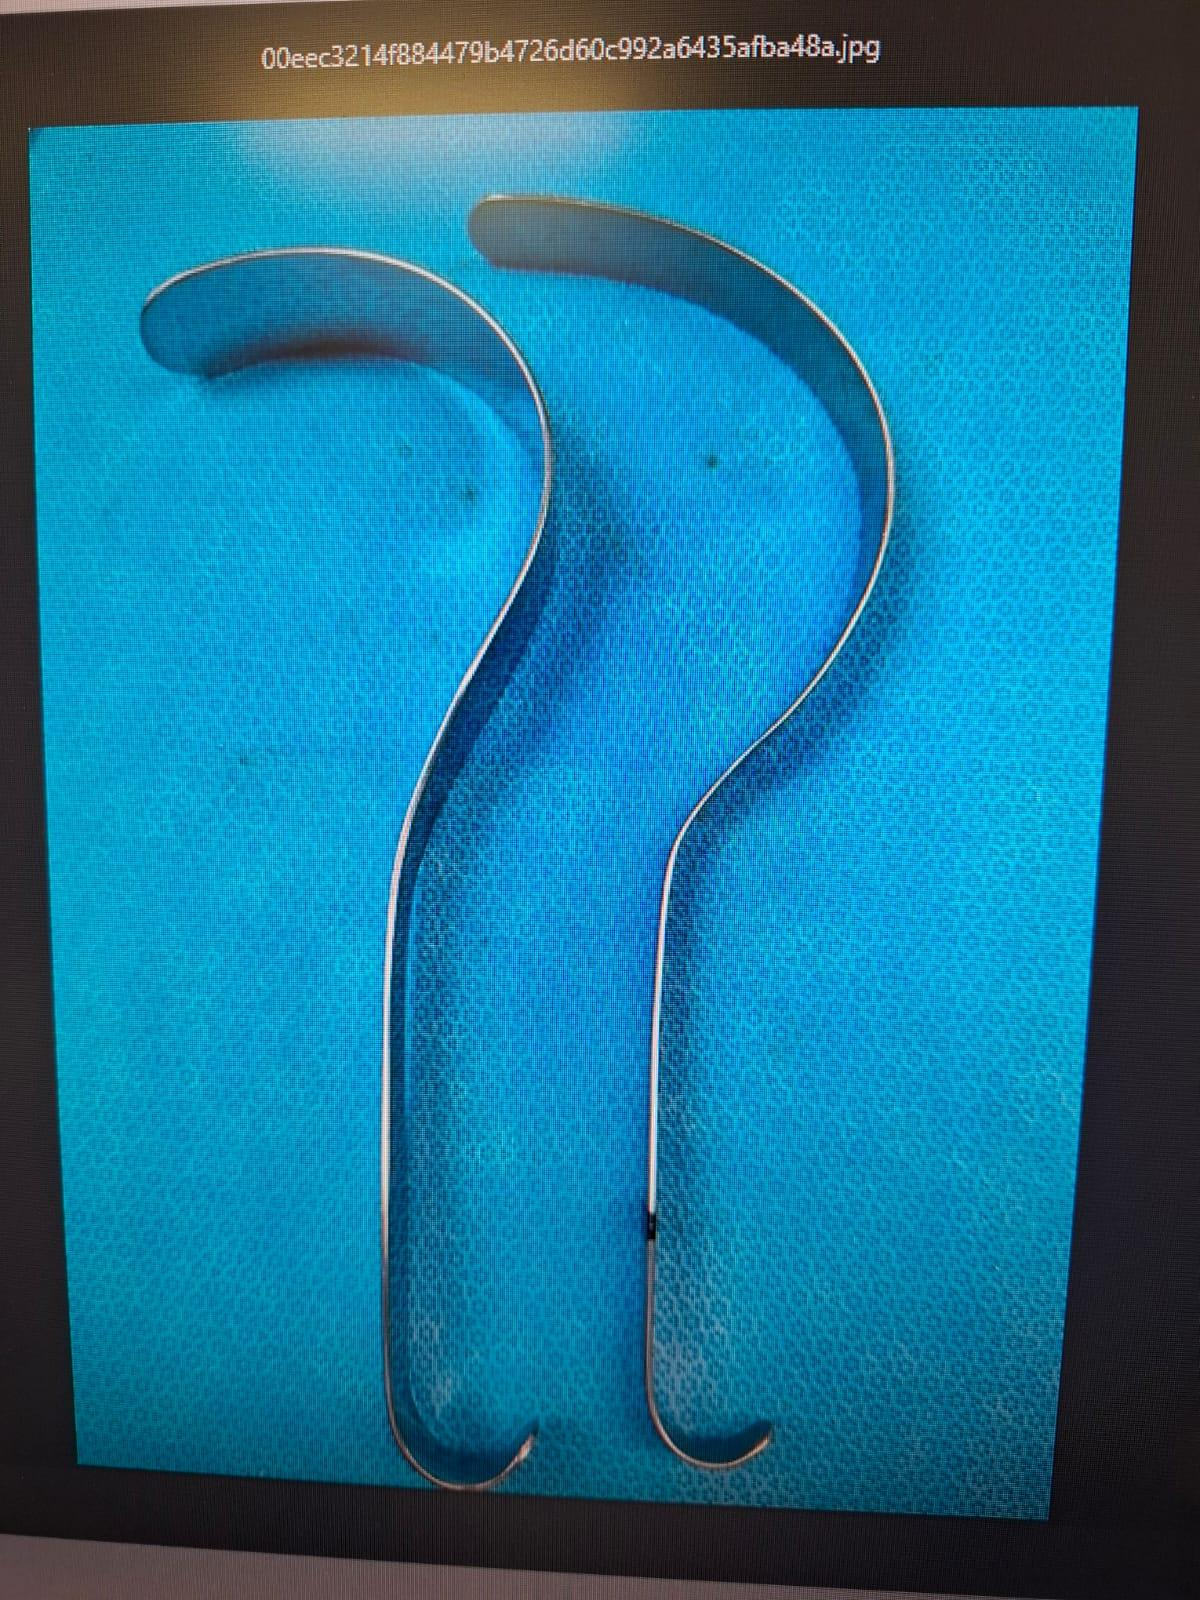Deaver Retractor: (453, 183, 933, 1478), (120, 226, 565, 1495)
